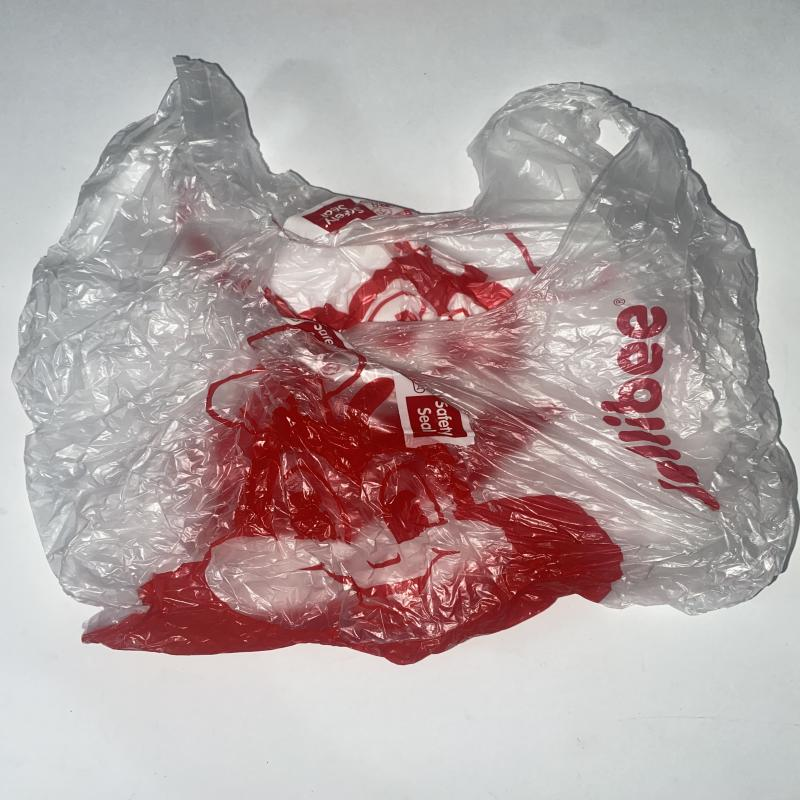plastic bag: (10, 55, 800, 669)
